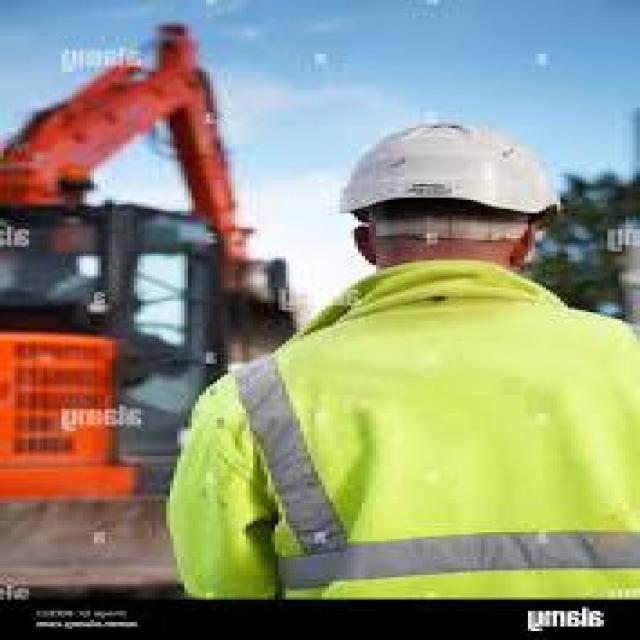Reflective-Jacket: (141, 258, 640, 611)
Safety-Helmet: (318, 114, 586, 224)
